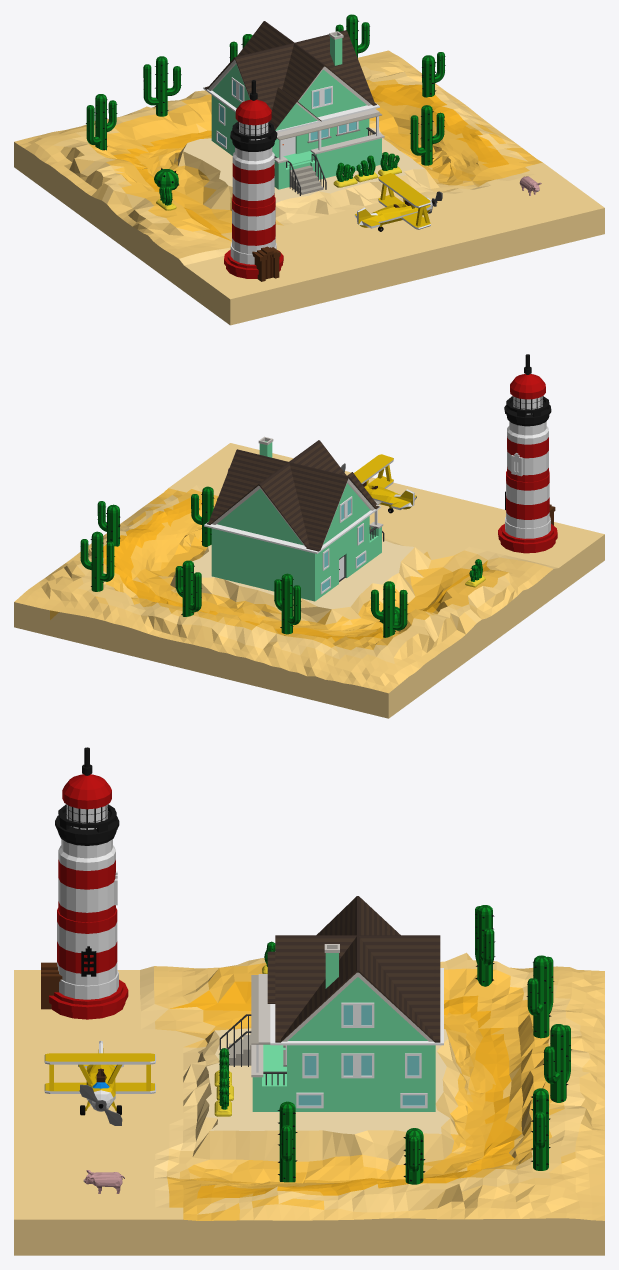
The picture shows the model from 3 angles, top to bottom: view 1: azimuth 30°, elevation 25°; view 2: azimuth 150°, elevation 25°; view 3: azimuth 270°, elevation 25°; orthographic projection. The views are drawn at different scales.
Parts seen in each view (by area): view 1: Cube.001, Cube.352, OBJRANDOM_LIGHTHOUSE, VEHICLES_AIRPLANE, Cylinder.044, Cylinder.037, Cylinder.045, Cylinder.038, Cylinder.042, Cylinder.039; view 2: Cube.001, Cube.352, OBJRANDOM_LIGHTHOUSE, VEHICLES_AIRPLANE, Cylinder.042, Cylinder.045, Cylinder.044, Cylinder.043, Cylinder.037, Cylinder.038; view 3: Cube.001, Cube.352, OBJRANDOM_LIGHTHOUSE, VEHICLES_AIRPLANE, Cylinder.044, Cylinder.043, Cylinder.045, Cylinder.037, Cylinder.042, Cylinder.038.
Boxes of the visible parts, x1,y1,x2,y2 form: Cube.001: [14, 50, 604, 325]; Cube.352: [203, 21, 384, 195]; OBJRANDOM_LIGHTHOUSE: [224, 80, 283, 281]; VEHICLES_AIRPLANE: [354, 173, 442, 231]; Cylinder.044: [143, 56, 181, 116]; Cylinder.037: [410, 105, 444, 165]; Cylinder.045: [86, 94, 117, 150]; Cylinder.038: [422, 52, 445, 97]; Cylinder.042: [335, 14, 369, 58]; Cylinder.039: [333, 162, 357, 187]; Cube.001: [14, 443, 604, 718]; Cube.352: [204, 436, 384, 601]; OBJRANDOM_LIGHTHOUSE: [498, 354, 557, 553]; VEHICLES_AIRPLANE: [341, 454, 416, 513]; Cylinder.042: [80, 531, 115, 591]; Cylinder.045: [370, 581, 408, 637]; Cylinder.044: [274, 573, 301, 634]; Cylinder.043: [175, 560, 201, 616]; Cylinder.037: [191, 486, 217, 546]; Cylinder.038: [97, 501, 120, 546]; Cube.001: [14, 952, 604, 1255]; Cube.352: [219, 896, 443, 1111]; OBJRANDOM_LIGHTHOUSE: [41, 747, 128, 1019]; VEHICLES_AIRPLANE: [44, 1041, 155, 1125]; Cylinder.044: [526, 955, 554, 1038]; Cylinder.043: [543, 1024, 571, 1102]; Cylinder.045: [475, 905, 495, 986]; Cylinder.037: [277, 1101, 297, 1182]; Cylinder.042: [531, 1088, 550, 1170]; Cylinder.038: [403, 1128, 425, 1184].
Bounding box in the file's own units: 4002 × 2266 × 4001.
Materials: 41 (2 with a texture image).
